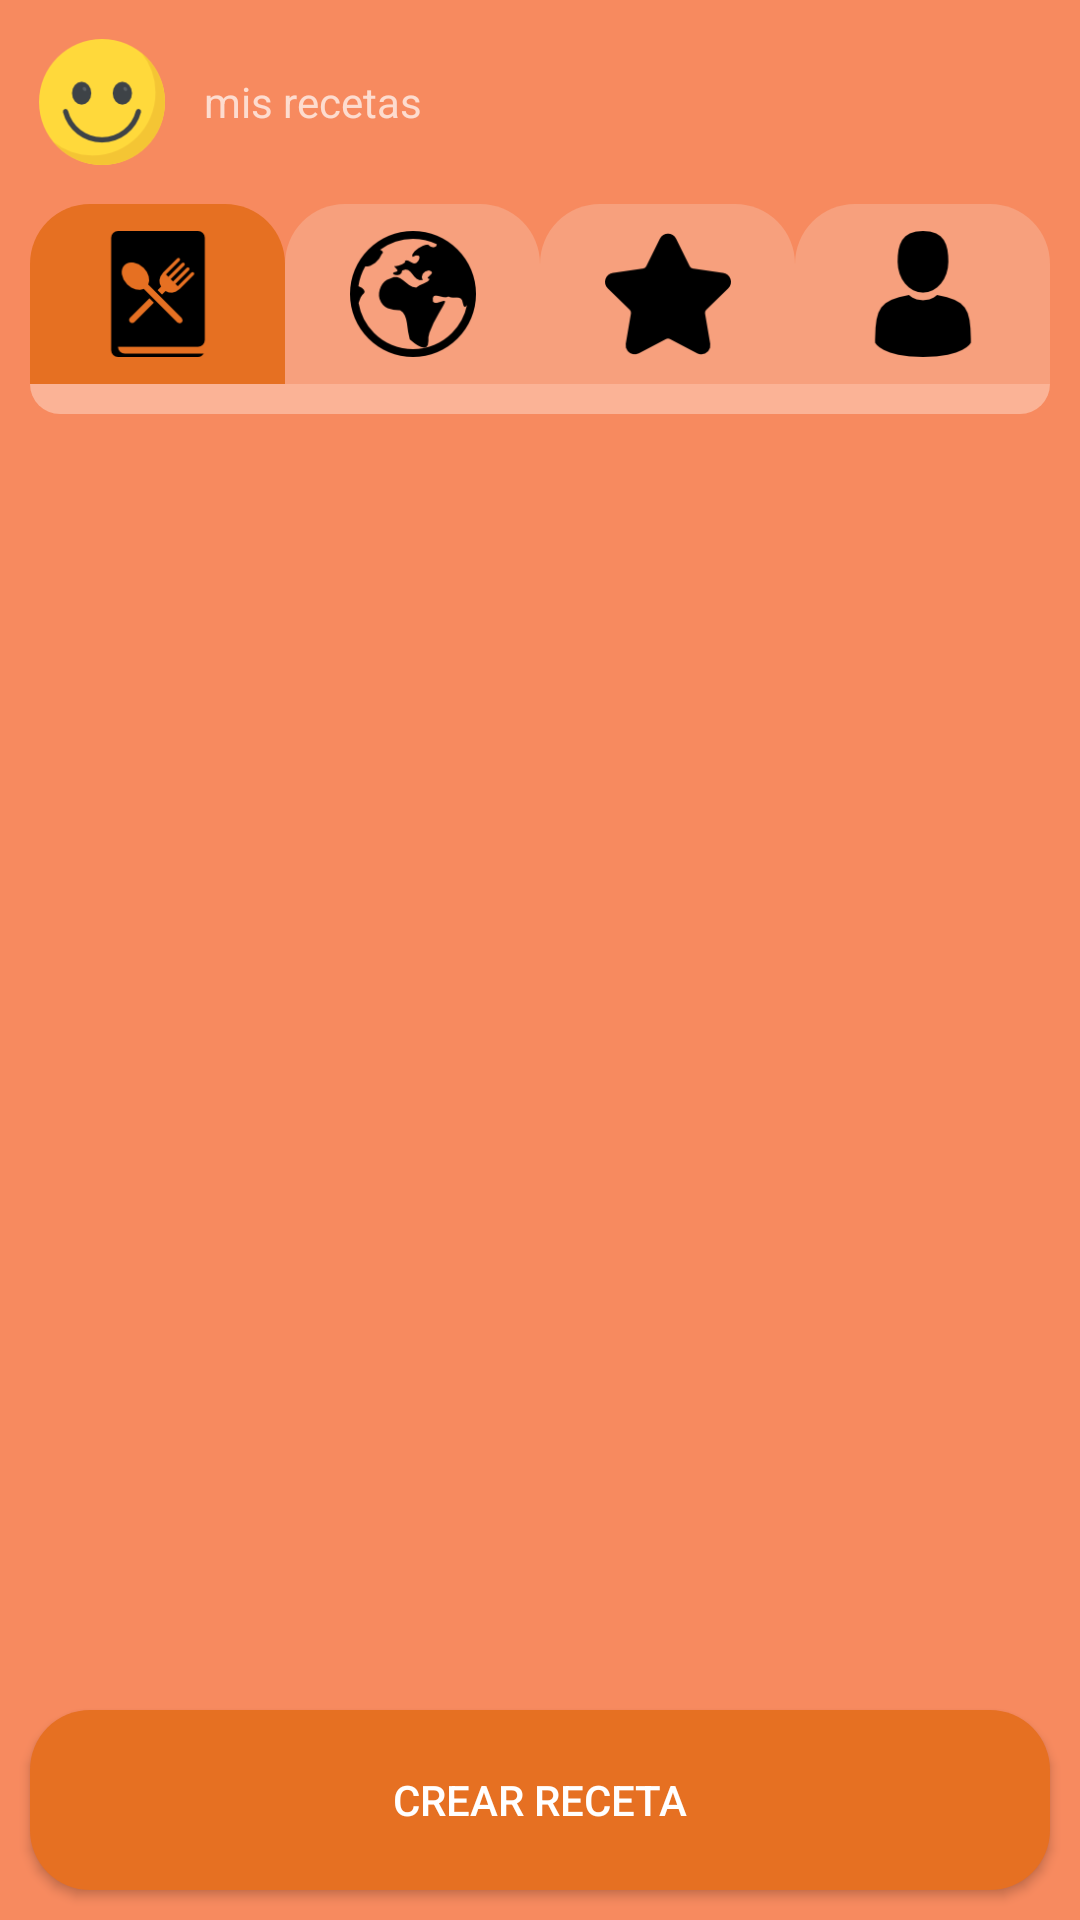

Icons on this 1080px x 1920px Android screen, each with the point to tap as [x,y]:
favorito: [667,294]
